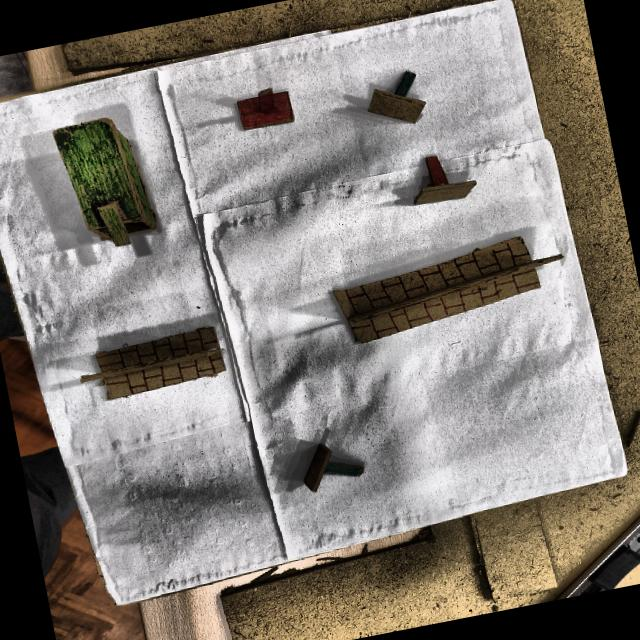Dead soldier -enemy-: (405, 155, 480, 208)
Dead soldier -frd-: (288, 426, 387, 499), (369, 70, 434, 126)
Tank: (52, 119, 161, 249)
Wall: (331, 237, 542, 345), (79, 327, 229, 402)
enemy: (234, 88, 313, 146)
